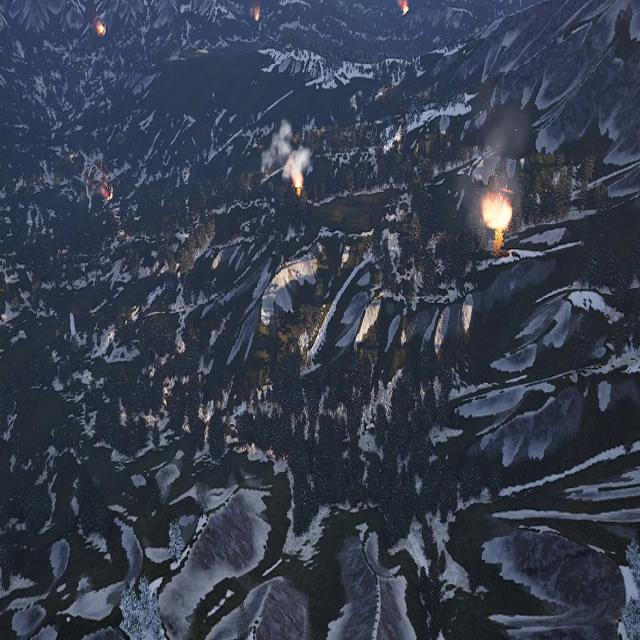fire: (482, 196, 512, 233), (102, 182, 115, 201), (292, 173, 302, 194), (96, 23, 108, 37), (398, 0, 408, 14), (253, 6, 260, 22)
smoke: (460, 104, 536, 224), (258, 120, 312, 178)
